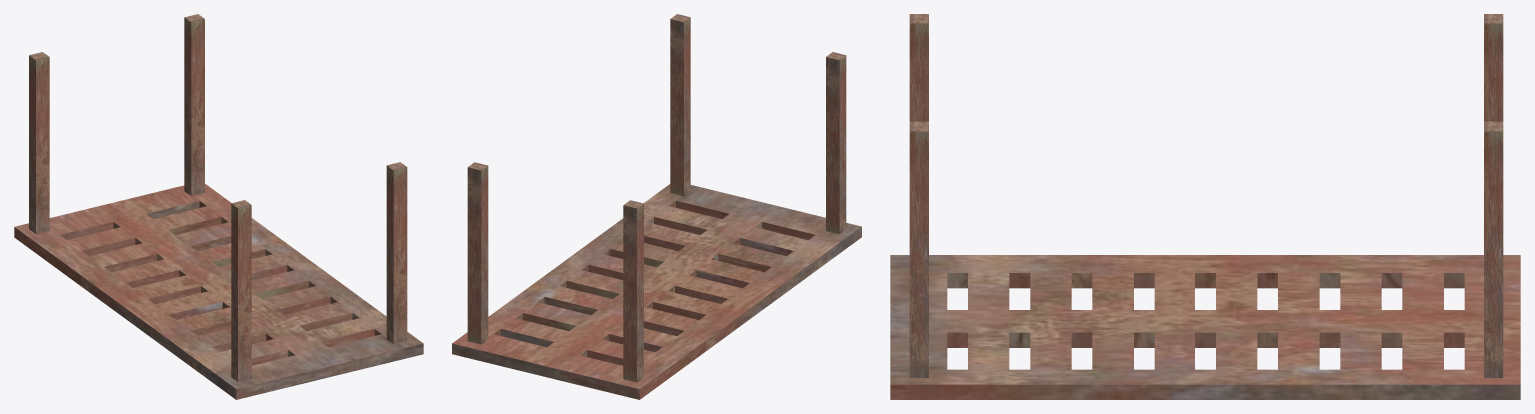
The model's file is cama jack.fbx.
3 renders of one model, left to right at view 1: azimuth 30°, elevation 25°; view 2: azimuth 150°, elevation 25°; view 3: azimuth 270°, elevation 25°, orthographic. The views are drawn at different scales.
Parts seen in each view (by area): view 1: polySurface64, pCube394, pCube237, pCube396, pCube395; view 2: polySurface64, pCube395, pCube396, pCube394, pCube237; view 3: polySurface64, pCube394, pCube395, pCube237, pCube396.
Boxes of the visible parts, x1,y1,x2,y2 form: polySurface64: (14, 184, 423, 399); pCube394: (386, 162, 407, 343); pCube237: (231, 200, 251, 381); pCube396: (29, 52, 49, 233); pCube395: (184, 14, 204, 195); polySurface64: (452, 184, 861, 399); pCube395: (467, 162, 488, 344); pCube396: (623, 200, 643, 382); pCube394: (670, 14, 690, 196); pCube237: (826, 52, 846, 234); polySurface64: (890, 255, 1520, 399); pCube394: (909, 121, 928, 377); pCube395: (1484, 121, 1503, 377); pCube237: (909, 14, 928, 121); pCube396: (1484, 14, 1503, 121).
Bounding box in the file's own units: 334 × 315 × 686.
